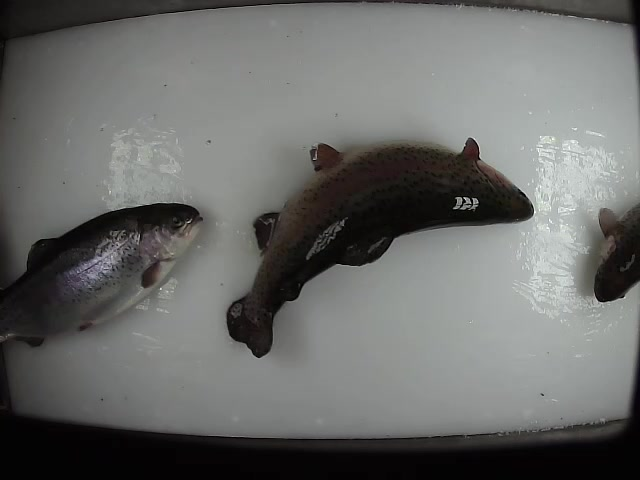fish: (225, 134, 536, 360), (1, 201, 205, 354), (592, 194, 640, 303)
